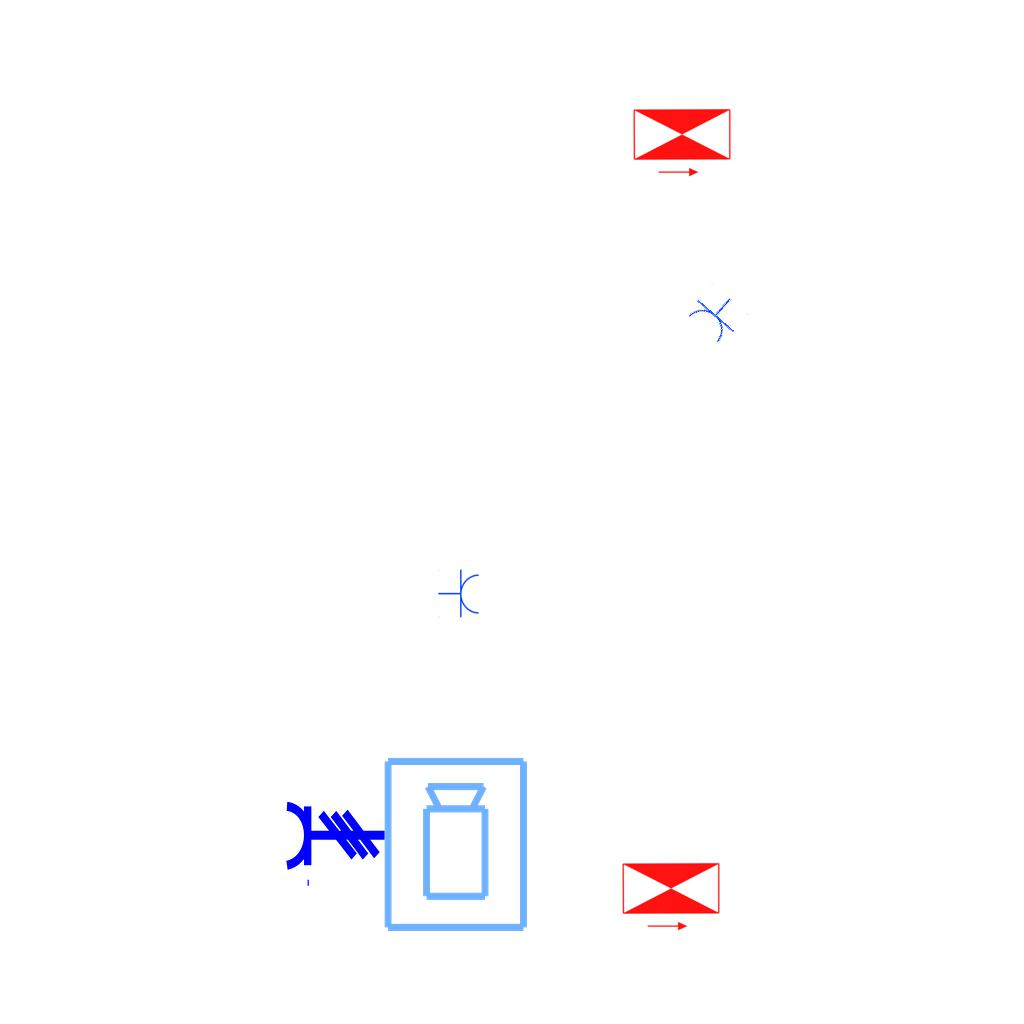CEE_Drehstrom_Steckdose_16_32_A: (284, 799, 388, 889)
Fluchtwegpiktogramm: (630, 106, 734, 179), (619, 860, 723, 933)
KFO_Kamera_mit_Festobjektiv: (380, 754, 534, 936)
Schukosteckdose_einfach: (683, 281, 749, 348), (438, 569, 481, 619)
